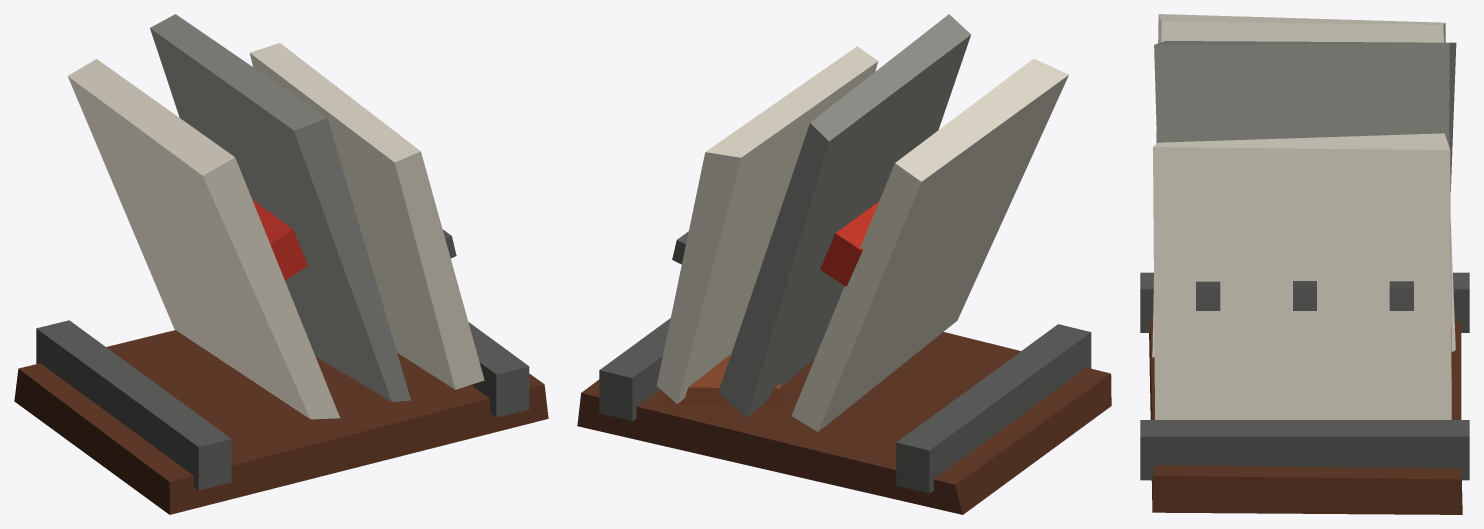
File: good_relics.glb
3 renders of one model, left to right at view 1: azimuth 30°, elevation 25°; view 2: azimuth 150°, elevation 25°; view 3: azimuth 270°, elevation 25°, orthographic.
Parts seen in each view (by area): view 1: good_relics; view 2: good_relics; view 3: good_relics.
Boxes of the visible parts, x1=… form: good_relics: x1=14, y1=14, x2=548, y2=514; good_relics: x1=577, y1=14, x2=1111, y2=514; good_relics: x1=1140, y1=14, x2=1469, y2=514.
Size of the model in its own units: 0.4645 by 0.4111 by 0.34.
